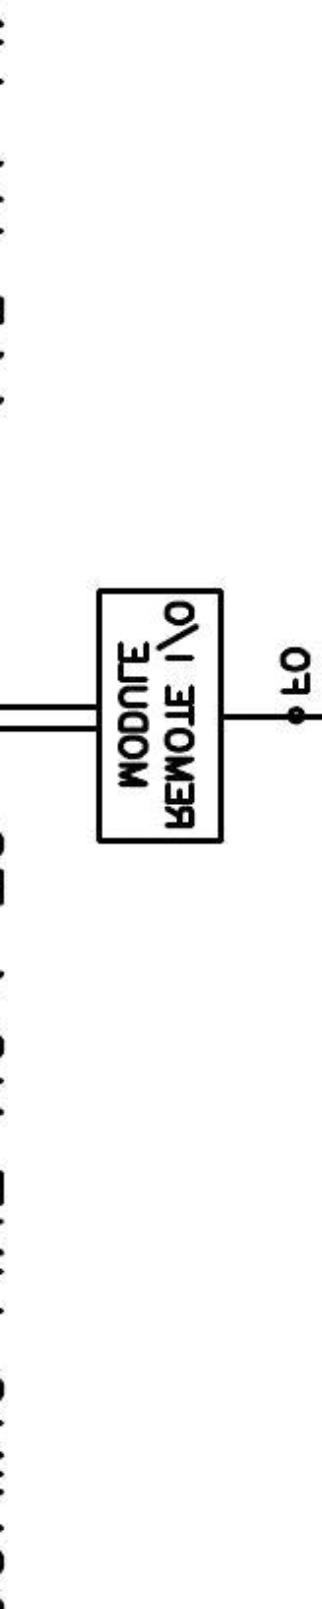remote_io_module: (95, 588, 224, 846)
